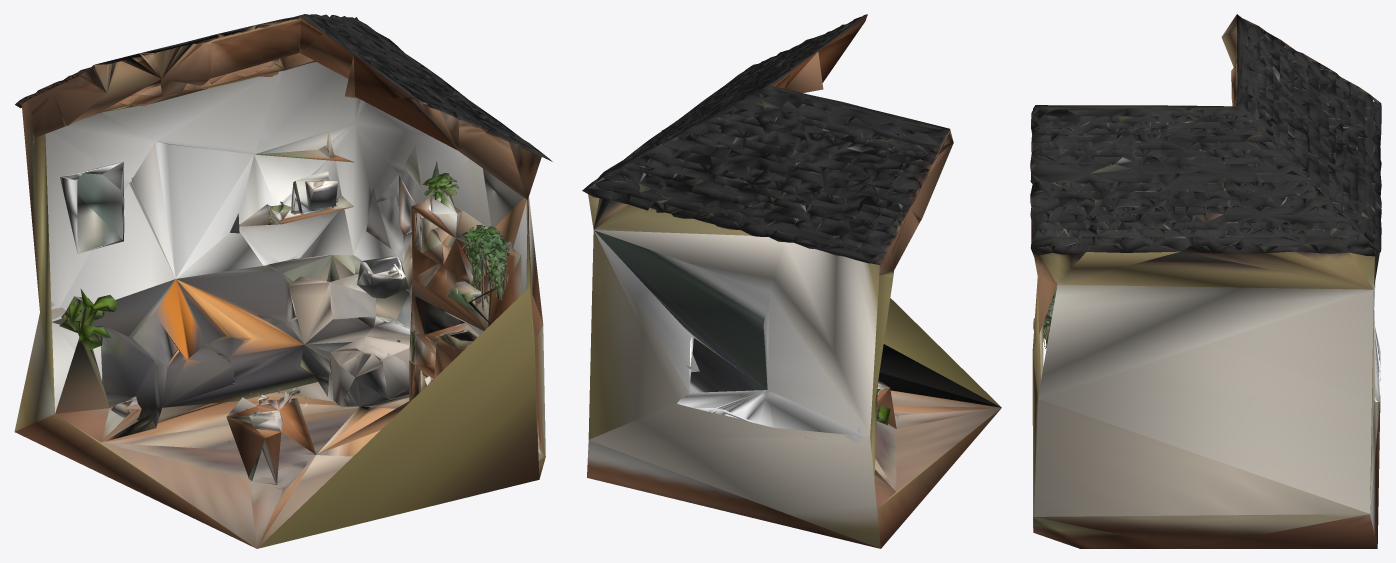
File: World49b24cf6bf.glb
The picture shows the model from 3 angles, left to right: view 1: azimuth 30°, elevation 25°; view 2: azimuth 150°, elevation 25°; view 3: azimuth 270°, elevation 25°; orthographic projection. The views are drawn at different scales.
Visible parts, largest first — view 1: World49b24cf6bf; view 2: World49b24cf6bf; view 3: World49b24cf6bf.
Boxes of the visible parts, x1,y1,x2,y2 form: World49b24cf6bf: (14, 14, 552, 548); World49b24cf6bf: (582, 14, 1001, 548); World49b24cf6bf: (1030, 14, 1381, 548).
Size of the model in its own units: 5.95 by 7 by 5.78.
Materials: 1 (1 with a texture image).
